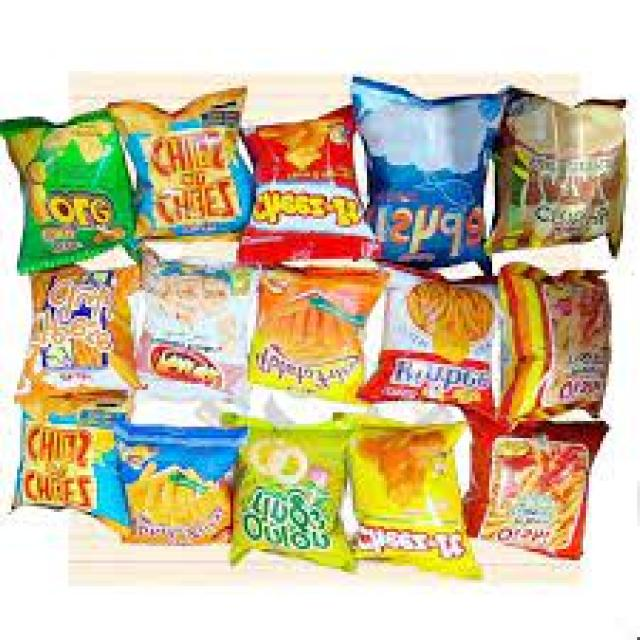junkfood wrapper: (351, 79, 501, 280), (0, 113, 138, 275), (109, 91, 254, 238), (491, 94, 621, 254), (239, 108, 371, 264), (468, 413, 608, 560), (352, 424, 481, 578), (359, 272, 495, 416), (16, 267, 140, 421), (253, 269, 388, 402), (499, 264, 610, 425), (102, 424, 246, 544), (233, 431, 354, 568), (131, 261, 252, 395), (21, 412, 131, 524)
